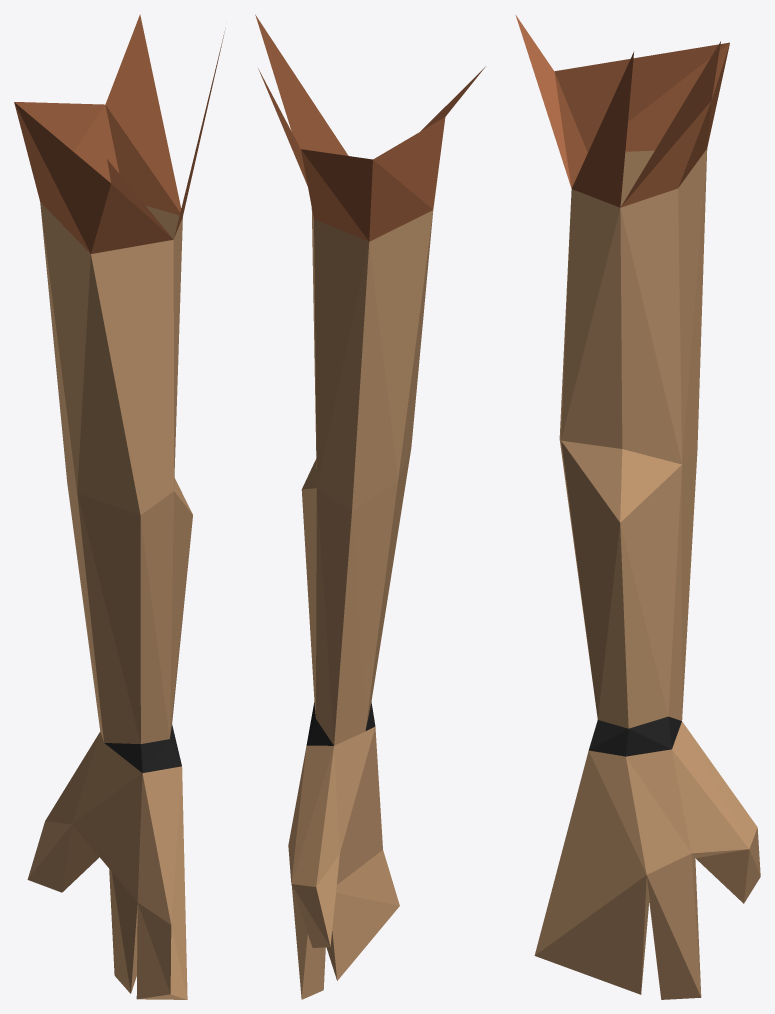
File: ArmR.obj
3 renders of one model, left to right at view 1: azimuth 30°, elevation 25°; view 2: azimuth 150°, elevation 25°; view 3: azimuth 270°, elevation 25°, orthographic. The views are drawn at different scales.
Bounding box in the file's own units: 0.1724 × 0.8914 × 0.2002.
Materials: 1 (1 with a texture image).
